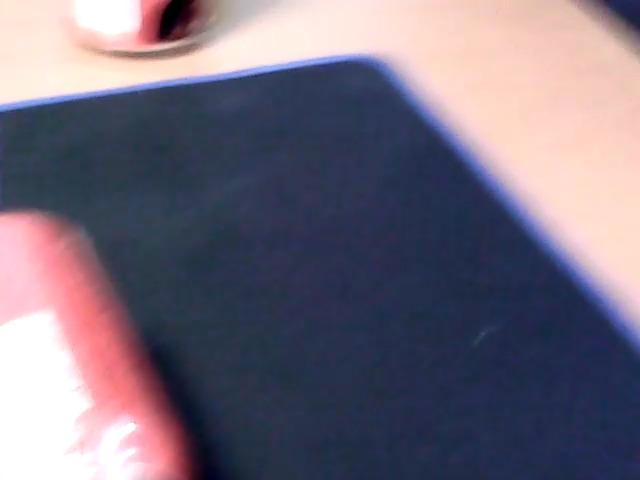coke: (0, 212, 200, 477), (47, 0, 234, 54)
